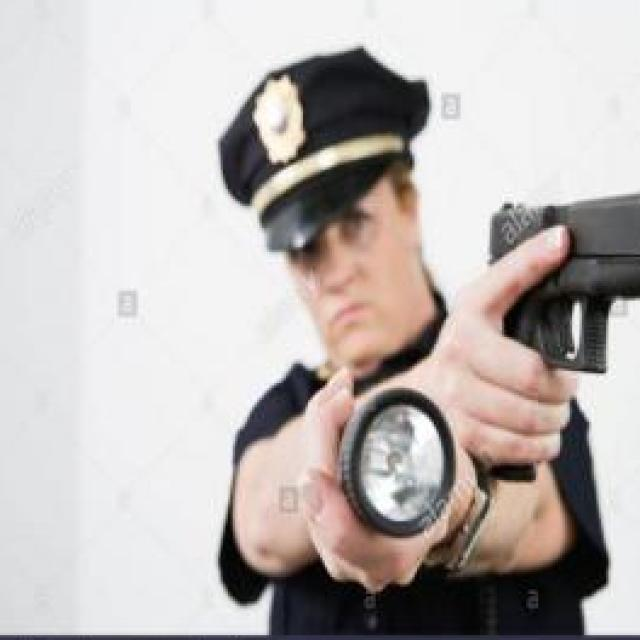pistol: (489, 179, 640, 482)
